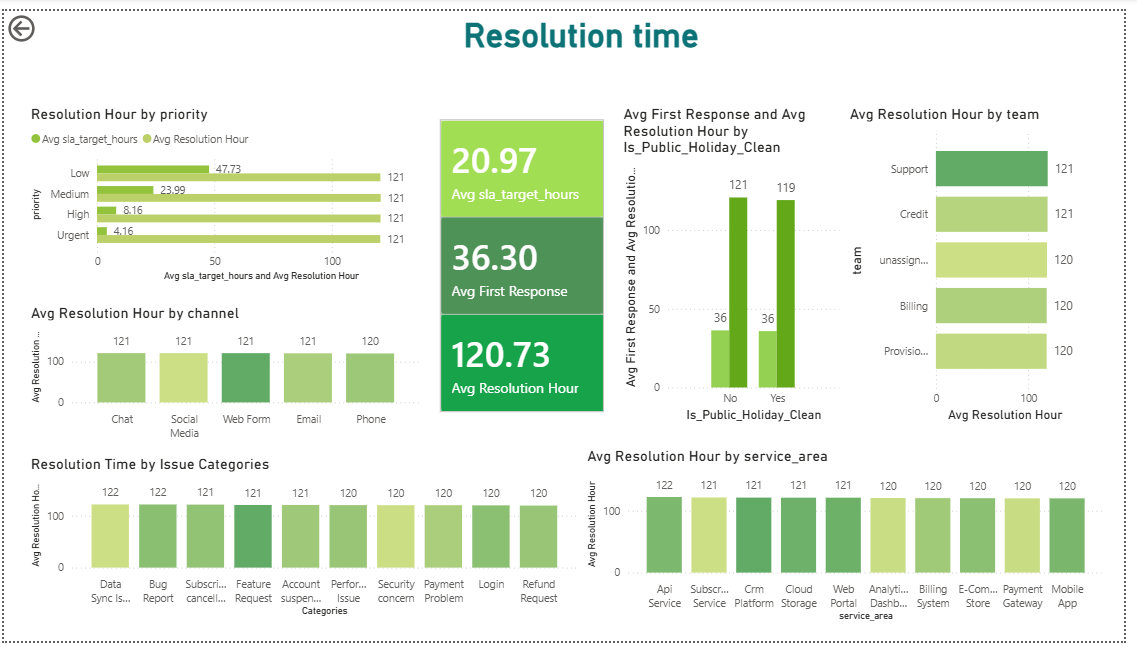

The dashboard page shown, as its layout file describes it:
{"tool":"powerbi","page":{"name":"Resolution_Time","canvas":[1280,720],"ordinal":1},"visuals":[{"type":"clusteredColumnChart","title":"Resolution Time by Issue Categories","fields":{"Category":["Tickets.Categories"],"Y":["Tickets.Avg Resolution Hour"]},"box":[25.7,507.1,634.3,190],"z":0},{"type":"cardVisual","fields":{"Data":["Avg(Tickets.sla_target_hours)","Tickets.Avg First Response","Tickets.Avg Resolution Hour"]},"box":[481.4,107.1,221.4,370],"z":1000},{"type":"actionButton","box":[0,0,100,40],"z":2000},{"type":"clusteredBarChart","title":"Resolution Hour by priority","fields":{"Category":["Tickets.priority"],"Y":["Avg(Tickets.sla_target_hours)","Tickets.Avg Resolution Hour"]},"box":[25.7,107.1,471.4,207.1],"z":3000},{"type":"textbox","box":[100.2,0,1119.7,74.1],"z":6000},{"type":"clusteredBarChart","fields":{"Category":["Tickets.team"],"Y":["Tickets.Avg Resolution Hour"]},"box":[961.4,107.1,277.1,367.1],"z":7000},{"type":"columnChart","fields":{"Category":["Tickets.service_area"],"Y":["Tickets.Avg Resolution Hour"]},"box":[661.4,498.6,600,204.3],"z":8000},{"type":"columnChart","fields":{"Y":["Tickets.Avg Resolution Hour"],"Category":["Tickets.channel"]},"box":[25.7,334.3,455.7,164.3],"z":9000},{"type":"clusteredColumnChart","fields":{"Y":["Tickets.Avg First Response","Tickets.Avg Resolution Hour"],"Category":["Tickets.Is_Public_Holiday_Clean"]},"box":[702.9,107.1,257.1,367.1],"z":10000}]}

Visuals, with their boxes in screenshot pixels (x1, y1, x2, y2), scaled from the page's 1280x720 canvas onto the 1137x657 screenshot:
"Resolution Time by Issue Categories" clusteredColumnChart: locate(23, 463, 586, 636)
cardVisual - Avg(Tickets.sla_target_hours) x Tickets.Avg First Response: locate(428, 98, 624, 435)
actionButton: locate(0, 0, 89, 36)
"Resolution Hour by priority" clusteredBarChart: locate(23, 98, 442, 287)
textbox: locate(89, 0, 1084, 68)
clusteredBarChart - Tickets.team x Tickets.Avg Resolution Hour: locate(854, 98, 1100, 433)
columnChart - Tickets.service_area x Tickets.Avg Resolution Hour: locate(588, 455, 1120, 641)
columnChart - Tickets.Avg Resolution Hour x Tickets.channel: locate(23, 305, 428, 455)
clusteredColumnChart - Tickets.Avg First Response x Tickets.Avg Resolution Hour: locate(624, 98, 853, 433)
